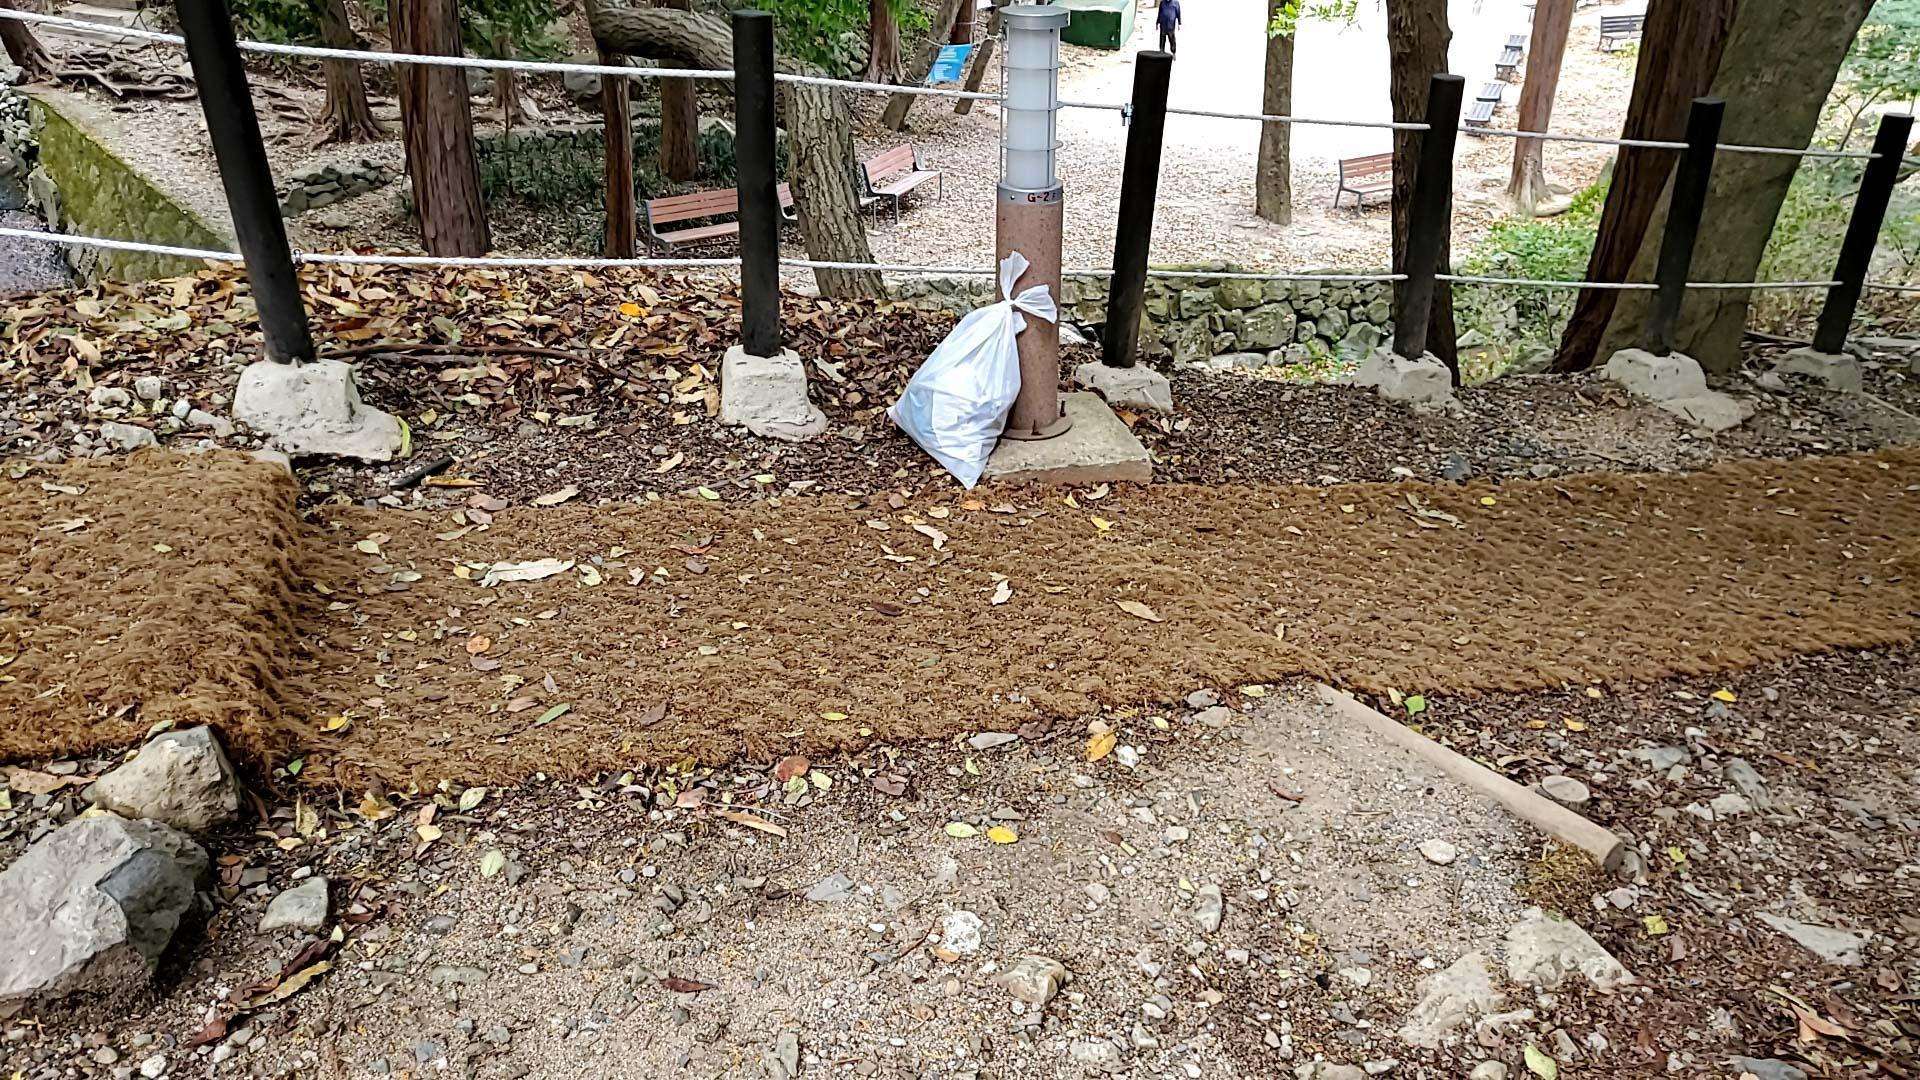white_bag: (872, 249, 1072, 495)
